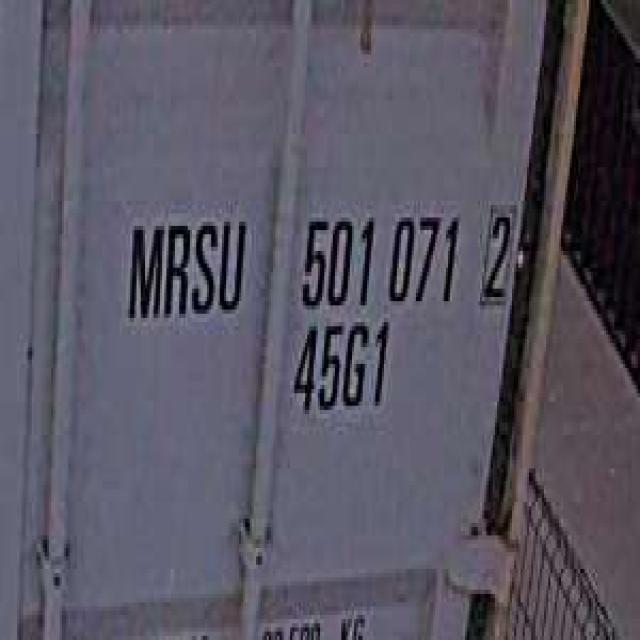dv: (476, 192, 516, 314)
owner: (120, 196, 250, 334)
serial: (294, 192, 463, 318)
size: (286, 314, 395, 426)
